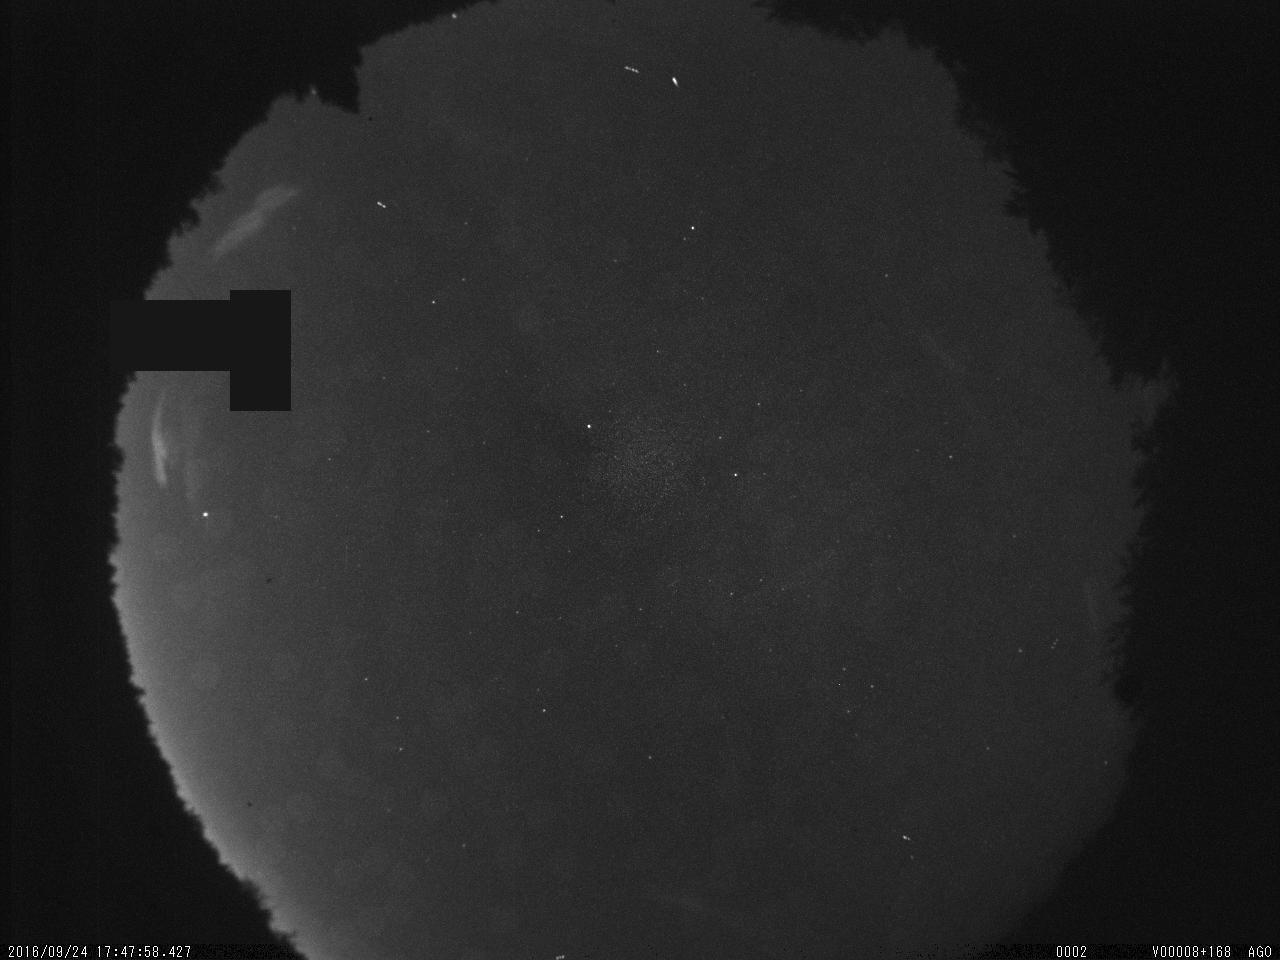meteor: (666, 67, 694, 97)
